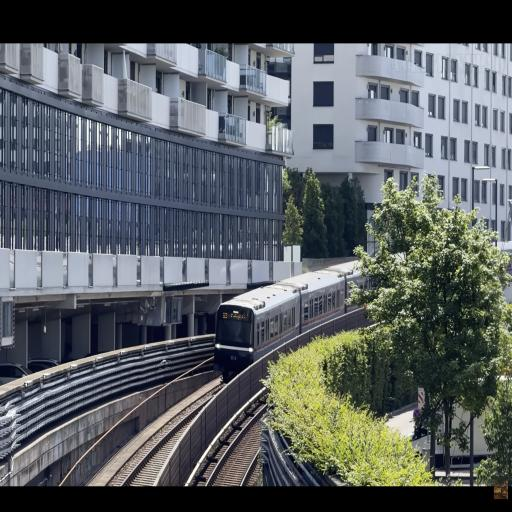X-Wagen: (215, 265, 343, 376)
